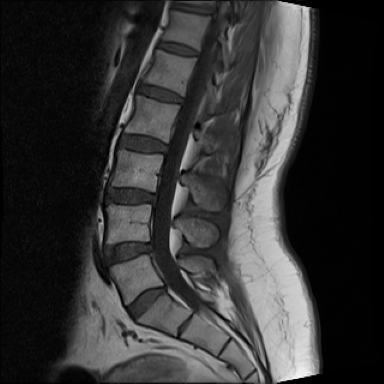Degenerative Disc Disease (DDD): (121, 282, 168, 327), (102, 236, 155, 271), (171, 2, 217, 18)
Normal IVD: (100, 182, 161, 208), (113, 131, 171, 158), (135, 84, 187, 107), (154, 40, 203, 60)
Spinal Stenosis (SS): (143, 239, 159, 260)
